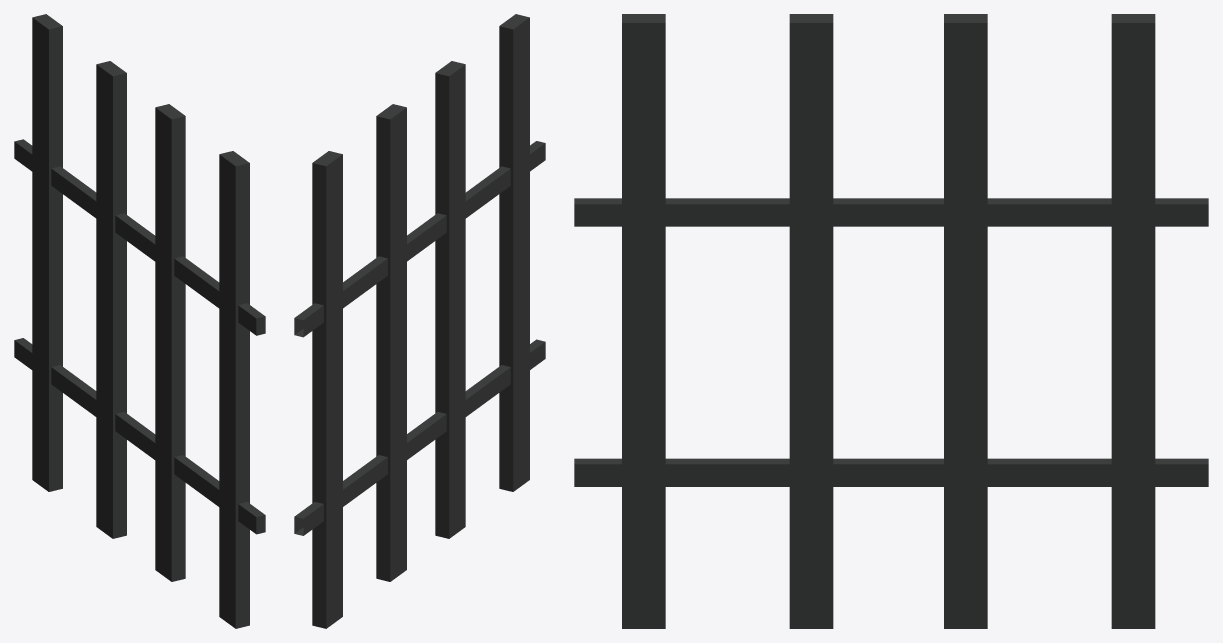
Rendered from fench4.FBX.
The picture shows the model from 3 angles, left to right: view 1: azimuth 30°, elevation 25°; view 2: azimuth 150°, elevation 25°; view 3: azimuth 270°, elevation 25°; orthographic projection. The views are drawn at different scales.
Visible parts, largest first — view 1: fench4; view 2: fench4; view 3: fench4.
Part boxes in pixels (left/top/right/bottom): fench4: left=14, top=14, right=265, bottom=628; fench4: left=294, top=14, right=545, bottom=628; fench4: left=574, top=14, right=1208, bottom=628.
Bounding box in the file's own units: 0.2438 × 7.69 × 7.29.
